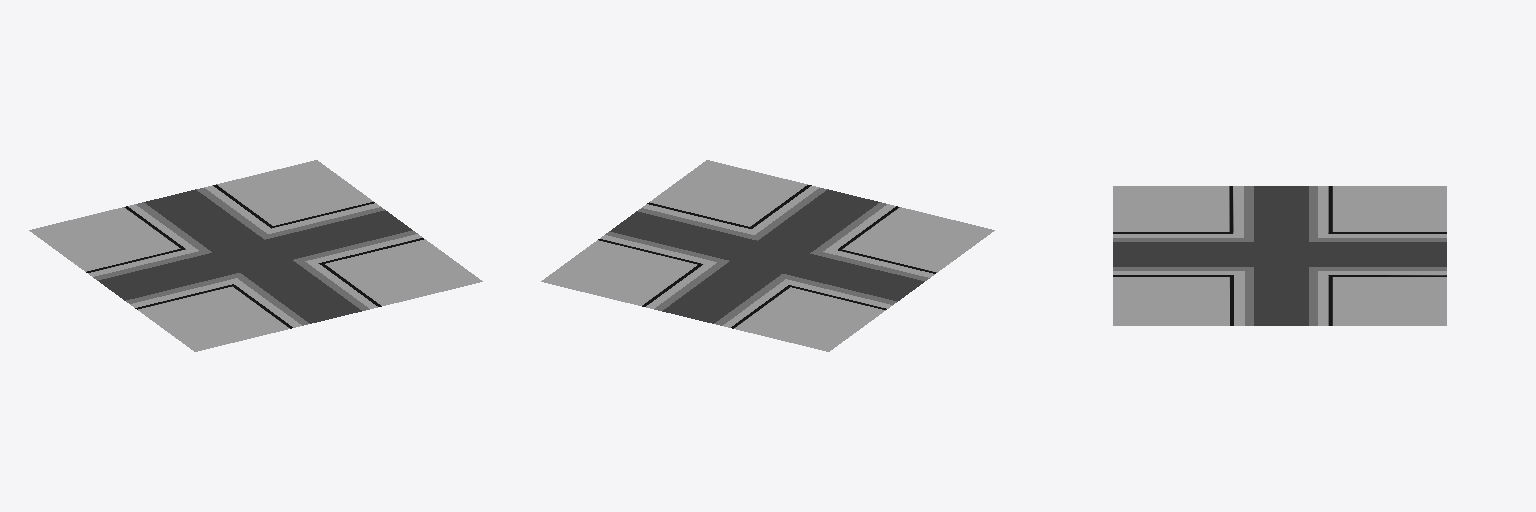
3 views of the same model, side by side, from view 1: azimuth 30°, elevation 25°; view 2: azimuth 150°, elevation 25°; view 3: azimuth 270°, elevation 25° (orthographic).
Parts seen in each view (by area): view 1: 平面; view 2: 平面; view 3: 平面.
Boxes of the visible parts, x1,y1,x2,y2 form: 平面: [29, 160, 482, 351]; 平面: [541, 160, 994, 351]; 平面: [1113, 186, 1446, 325].
Size of the model in its own units: 200 by 0 by 200.
1 materials, 1 textured.